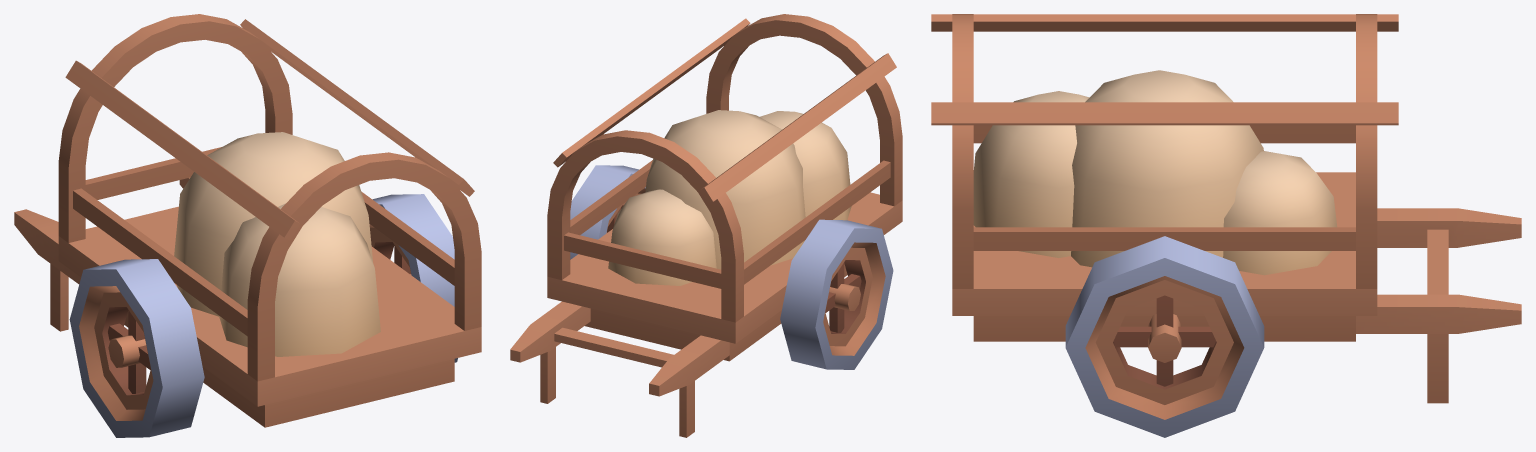
The model's file is cart-high.glb.
The picture shows the model from 3 angles, left to right: view 1: azimuth 30°, elevation 25°; view 2: azimuth 150°, elevation 25°; view 3: azimuth 270°, elevation 25°; orthographic projection. The views are drawn at different scales.
Visible parts, largest first — view 1: cart-high; view 2: cart-high; view 3: cart-high.
Boxes of the visible parts, x1,y1,x2,y2 form: cart-high: (14,14,481,437); cart-high: (510,14,902,437); cart-high: (931,14,1521,437).
Size of the model in its own units: 0.893 by 0.8605 by 1.39.
1 material, 1 textured.
